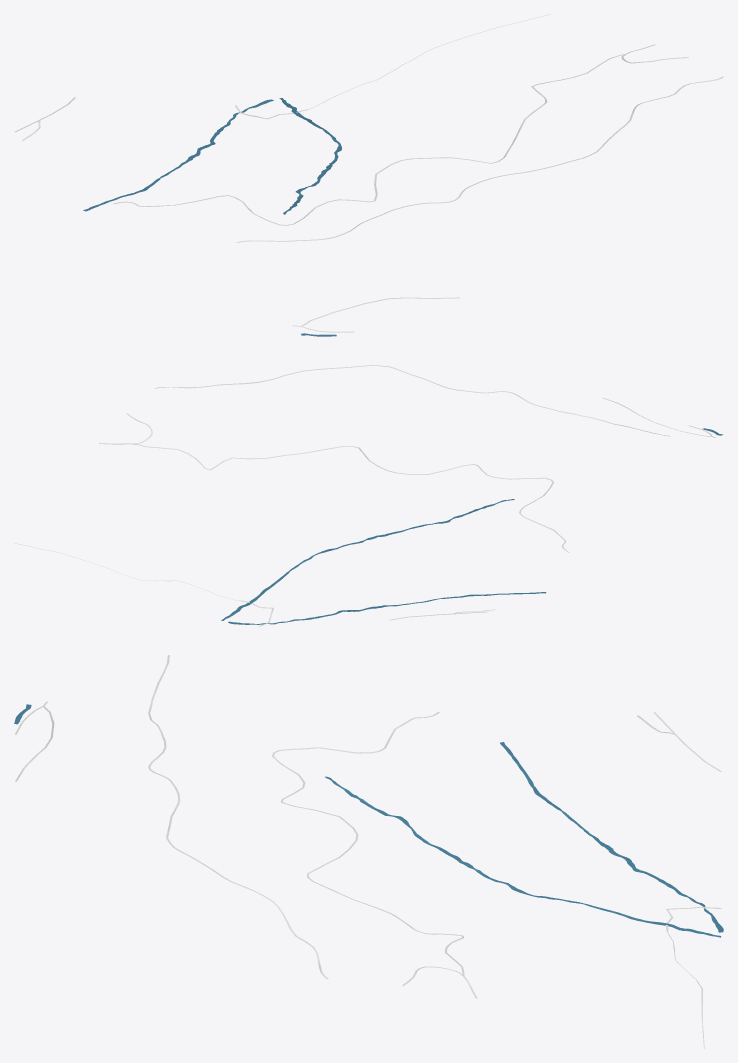
Rendered from objekty.glb.
The picture shows the model from 3 angles, top to bottom: view 1: azimuth 30°, elevation 25°; view 2: azimuth 150°, elevation 25°; view 3: azimuth 270°, elevation 25°; orthographic projection. The views are drawn at different scales.
Parts seen in each view (by area): view 1: Cesty_06_02, Voda_06_02; view 2: Cesty_06_02, Voda_06_02; view 3: Cesty_06_02, Voda_06_02.
Boxes of the visible parts, x1,y1,x2,y2 form: Cesty_06_02: [14, 14, 723, 332]; Voda_06_02: [83, 98, 341, 336]; Cesty_06_02: [14, 365, 715, 626]; Voda_06_02: [221, 428, 722, 624]; Cesty_06_02: [15, 655, 721, 1048]; Voda_06_02: [14, 704, 723, 937].
Bounding box in the file's own units: 1005 × 195 × 1009.
